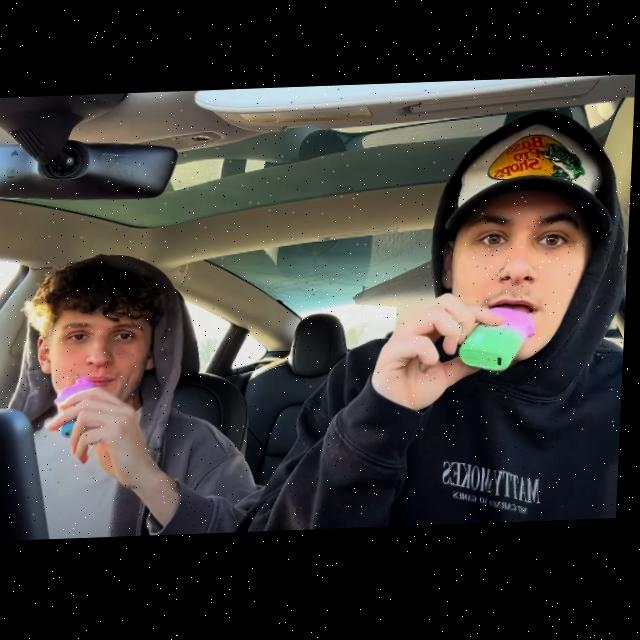vape: (462, 310, 539, 376), (60, 378, 98, 440)
